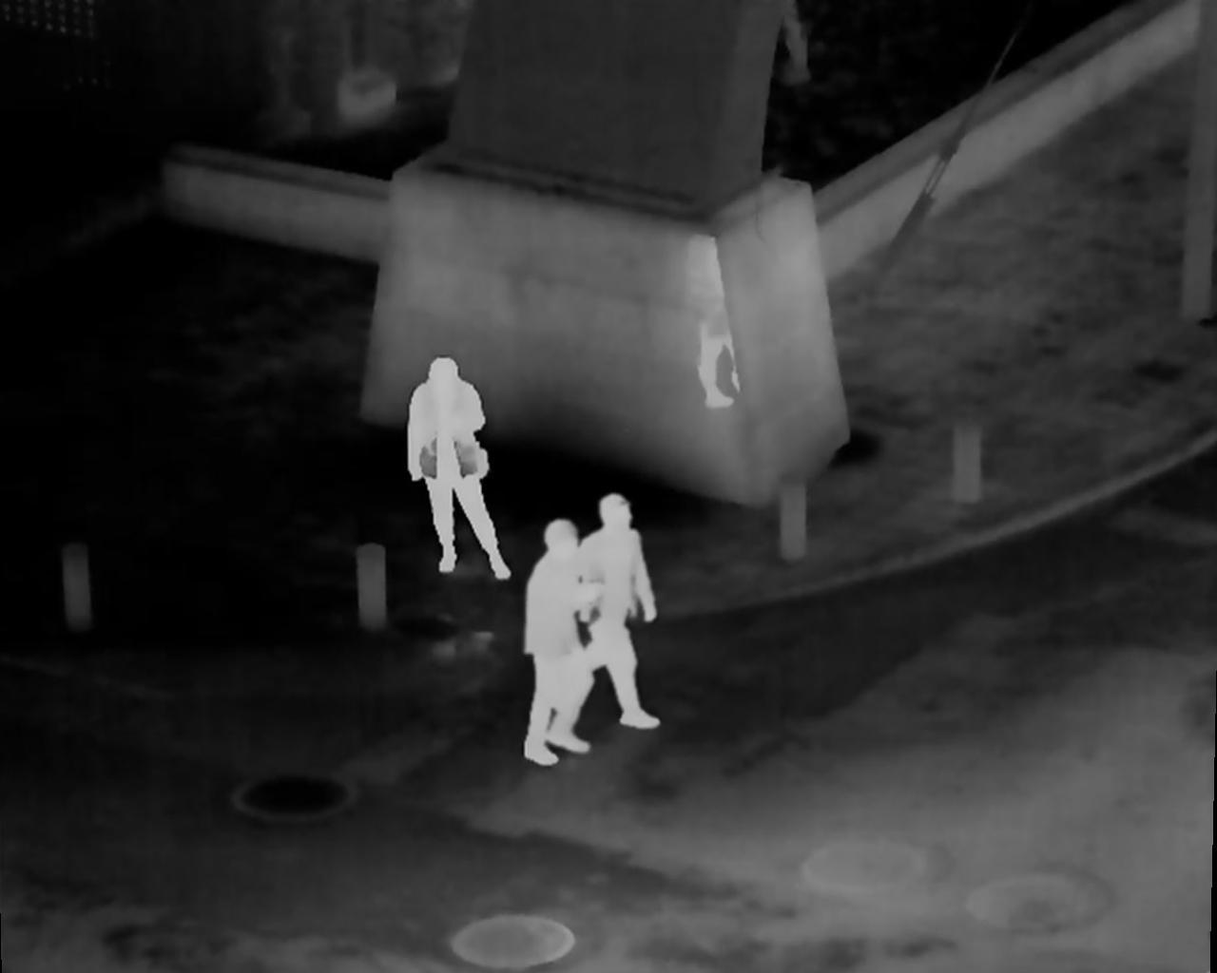person: (405, 359, 521, 585), (584, 488, 673, 720), (519, 514, 600, 758)
